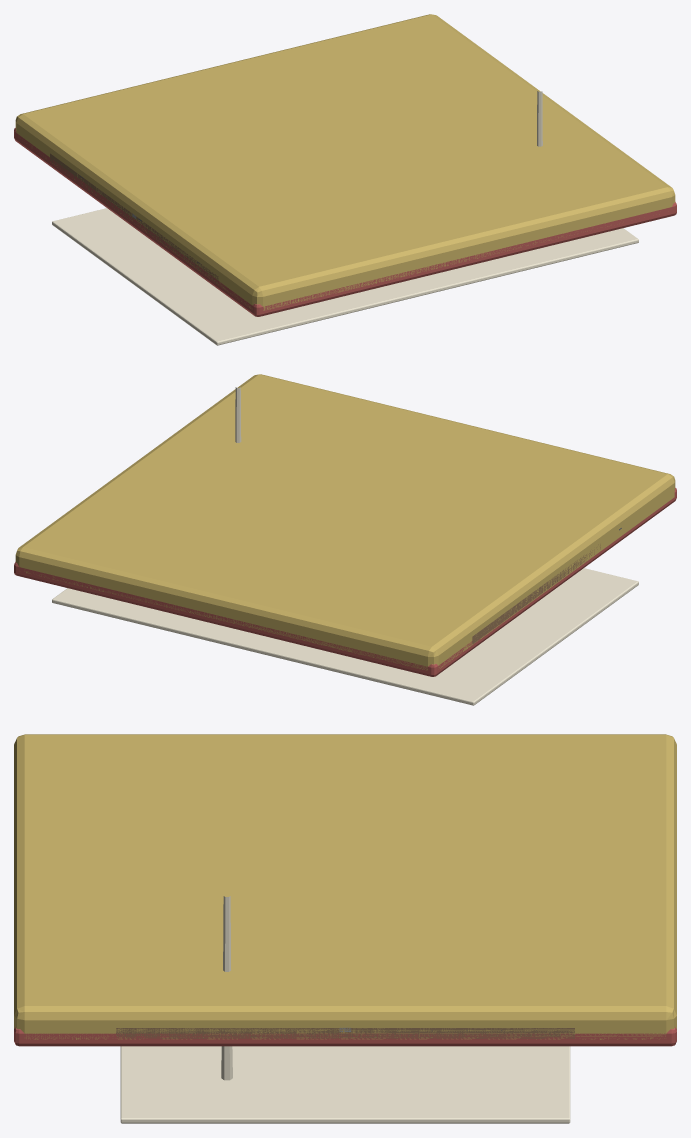
Rendered from manuscript_in_progress.glb.
3 views of the same model, one above another, from view 1: azimuth 30°, elevation 25°; view 2: azimuth 150°, elevation 25°; view 3: azimuth 270°, elevation 25° (orthographic). The views are drawn at different scales.
Visible parts, largest first — view 1: 089-manuscript-in-progress/4, 089-manuscript-in-progress/1, 089-manuscript-in-progress/3, 089-manuscript-in-progress/0; view 2: 089-manuscript-in-progress/4, 089-manuscript-in-progress/1, 089-manuscript-in-progress/3, 089-manuscript-in-progress/0; view 3: 089-manuscript-in-progress/4, 089-manuscript-in-progress/1, 089-manuscript-in-progress/3, 089-manuscript-in-progress/0.
Boxes of the visible parts, x1,y1,x2,y2 form: 089-manuscript-in-progress/4: (15, 14, 675, 310); 089-manuscript-in-progress/1: (52, 91, 638, 345); 089-manuscript-in-progress/3: (14, 128, 676, 316); 089-manuscript-in-progress/0: (50, 153, 218, 283); 089-manuscript-in-progress/4: (15, 374, 675, 670); 089-manuscript-in-progress/1: (52, 387, 638, 705); 089-manuscript-in-progress/3: (14, 488, 676, 676); 089-manuscript-in-progress/0: (472, 544, 600, 644); 089-manuscript-in-progress/4: (14, 734, 676, 1039); 089-manuscript-in-progress/1: (120, 896, 570, 1123); 089-manuscript-in-progress/3: (14, 1027, 676, 1046); 089-manuscript-in-progress/0: (116, 1028, 574, 1038).
Bounding box in the file's own units: 2 × 0.6268 × 2.
